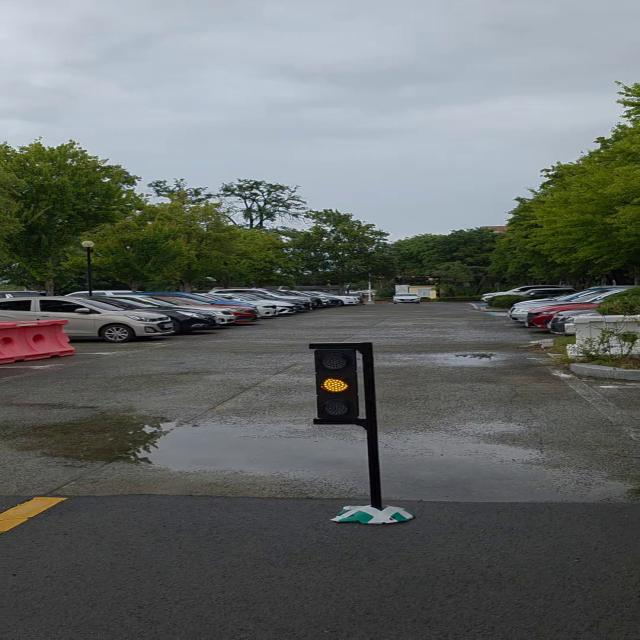yellow: (308, 343, 368, 427)
